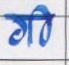i_matra: (35, 4, 50, 46)
